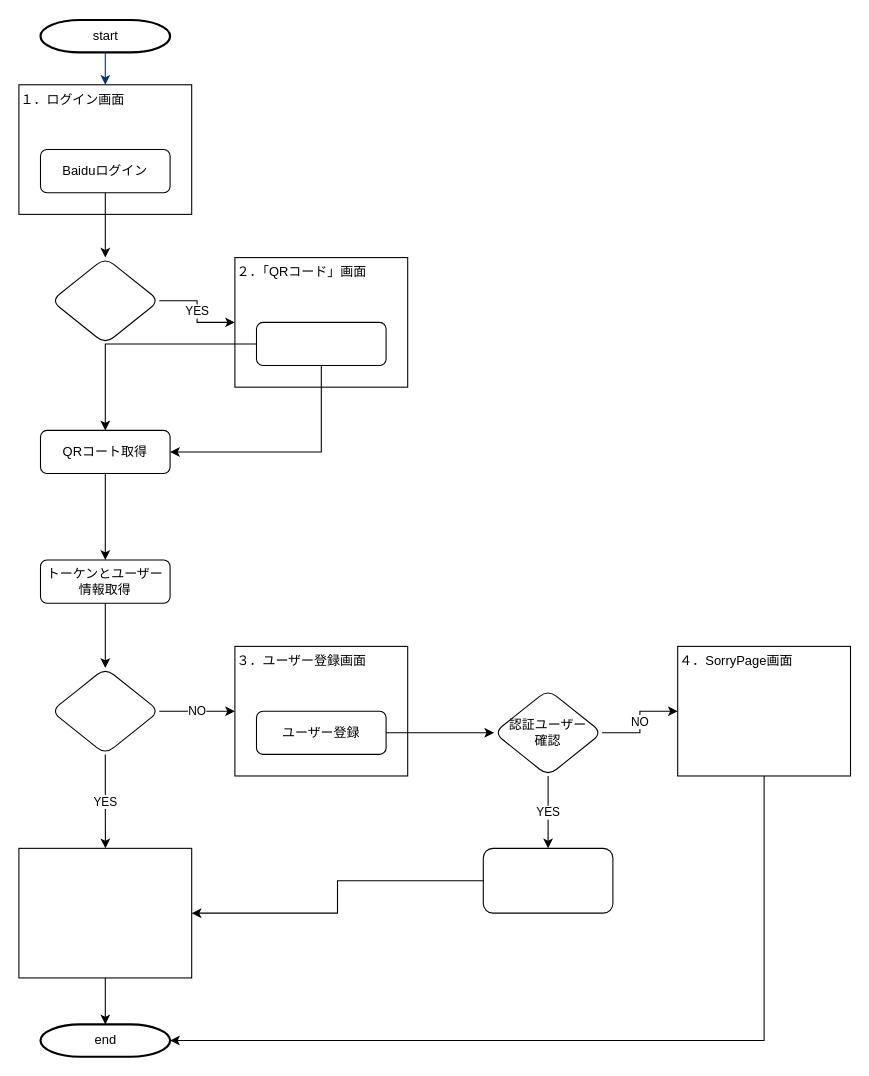
This 869x1076 diagram has some shape labels left out. Here are the shapes that lost their labels. From the top down, the centre of each, then its label:
point 104,300: 該当設備 Baiduから 初回認証
point 320,343: スキン
point 104,710: ユーザー存在 確認
point 547,880: ユーザー情報 保存
point 105,912: ５．ホームページ画面
